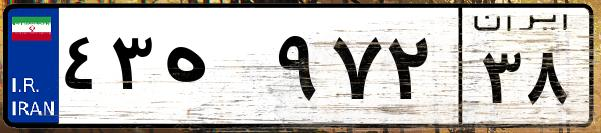2: (385, 28, 445, 110)
3: (475, 38, 525, 113), (110, 28, 158, 98)
4: (57, 26, 110, 100)
7: (330, 28, 385, 110)
8: (525, 38, 570, 115)
9: (270, 28, 330, 110)
ه: (158, 20, 270, 120)
